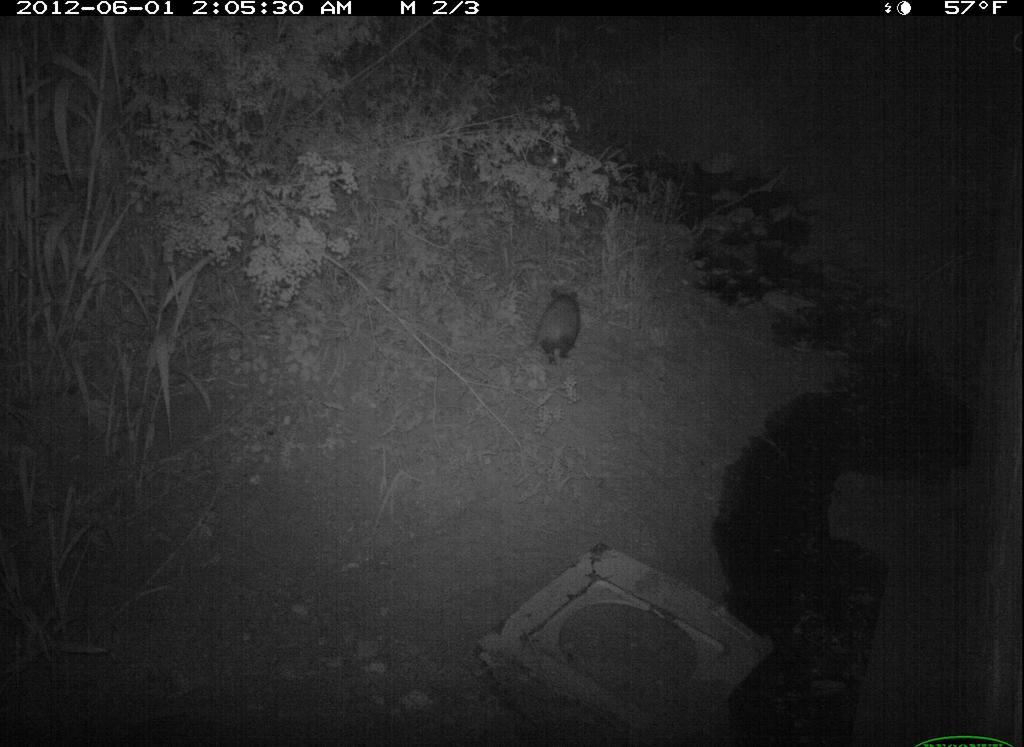opossum: (519, 257, 593, 389)
